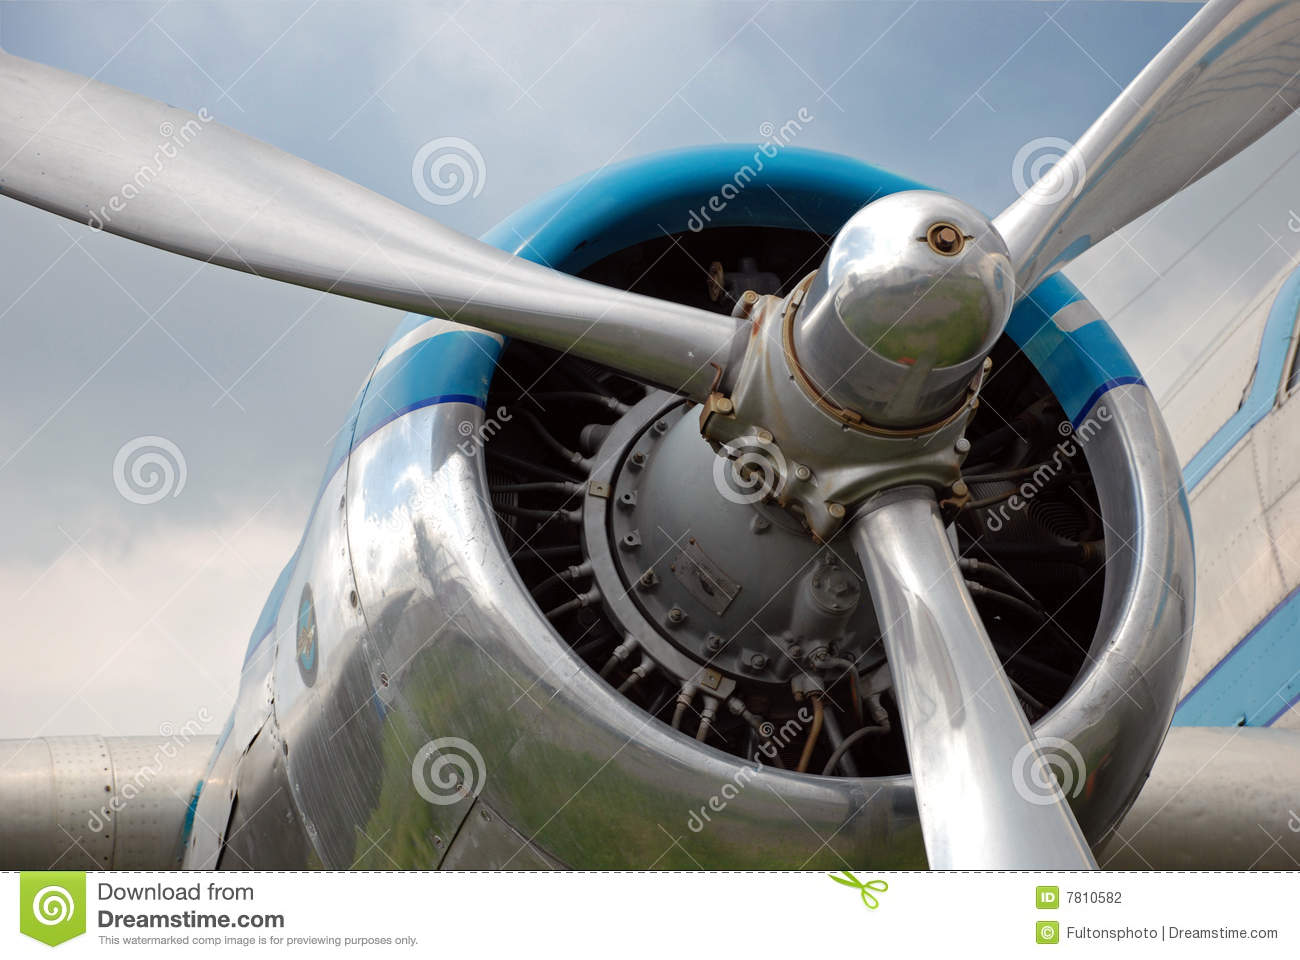Propeller: (69, 44, 1234, 860)
